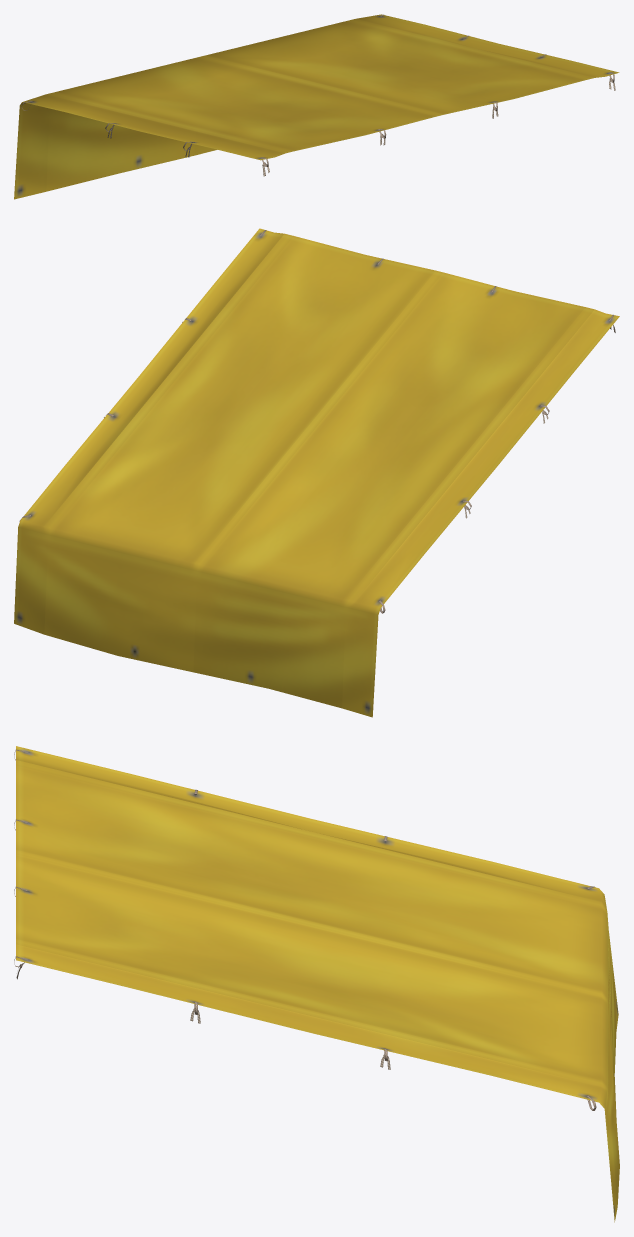
File: jsf_Ceiling_s01_c05_t01.fbx
3 renders of one model, top to bottom at view 1: azimuth 30°, elevation 25°; view 2: azimuth 150°, elevation 25°; view 3: azimuth 270°, elevation 25°, orthographic. The views are drawn at different scales.
Parts seen in each view (by area): view 1: jsf_Ceiling_s01_c05_t01; view 2: jsf_Ceiling_s01_c05_t01; view 3: jsf_Ceiling_s01_c05_t01.
Part boxes in pixels (box(x1,y1,x2,y2)): jsf_Ceiling_s01_c05_t01: box(14, 14, 619, 199); jsf_Ceiling_s01_c05_t01: box(14, 228, 619, 717); jsf_Ceiling_s01_c05_t01: box(14, 746, 619, 1222).
Bounding box in the file's own units: 184 × 106 × 216.
